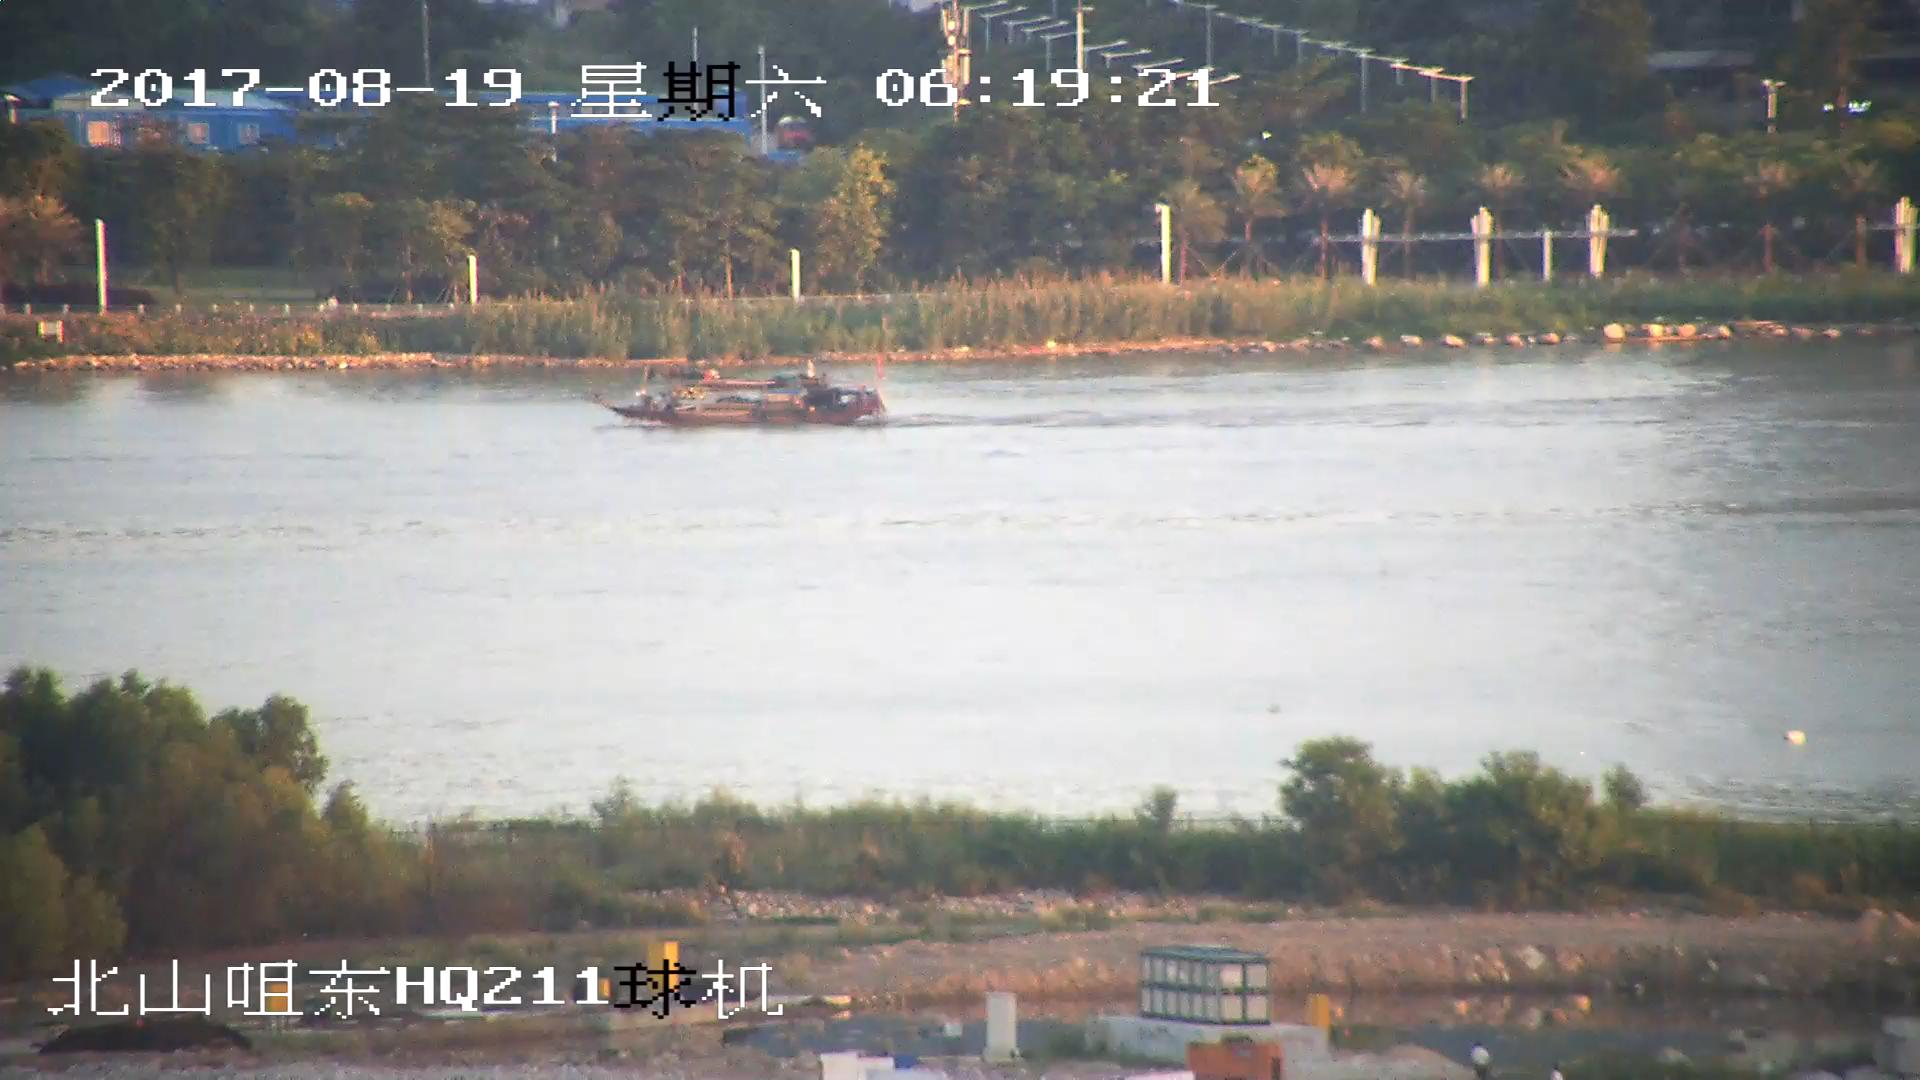fishing boat: (599, 362, 888, 430)
